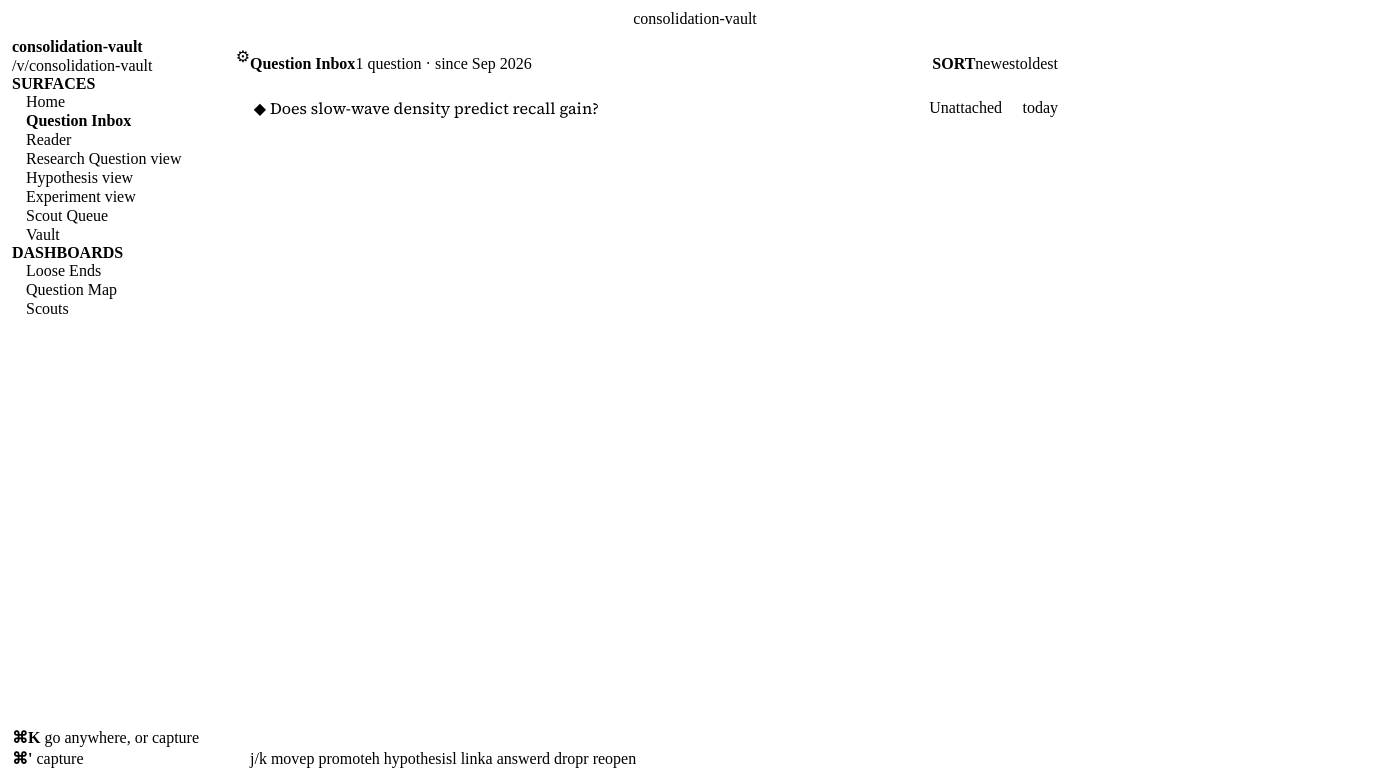
Test: drop and reopen › a refused drop shows its reason on the row
Click the option: click(434, 108) [250, 90, 1058, 126]
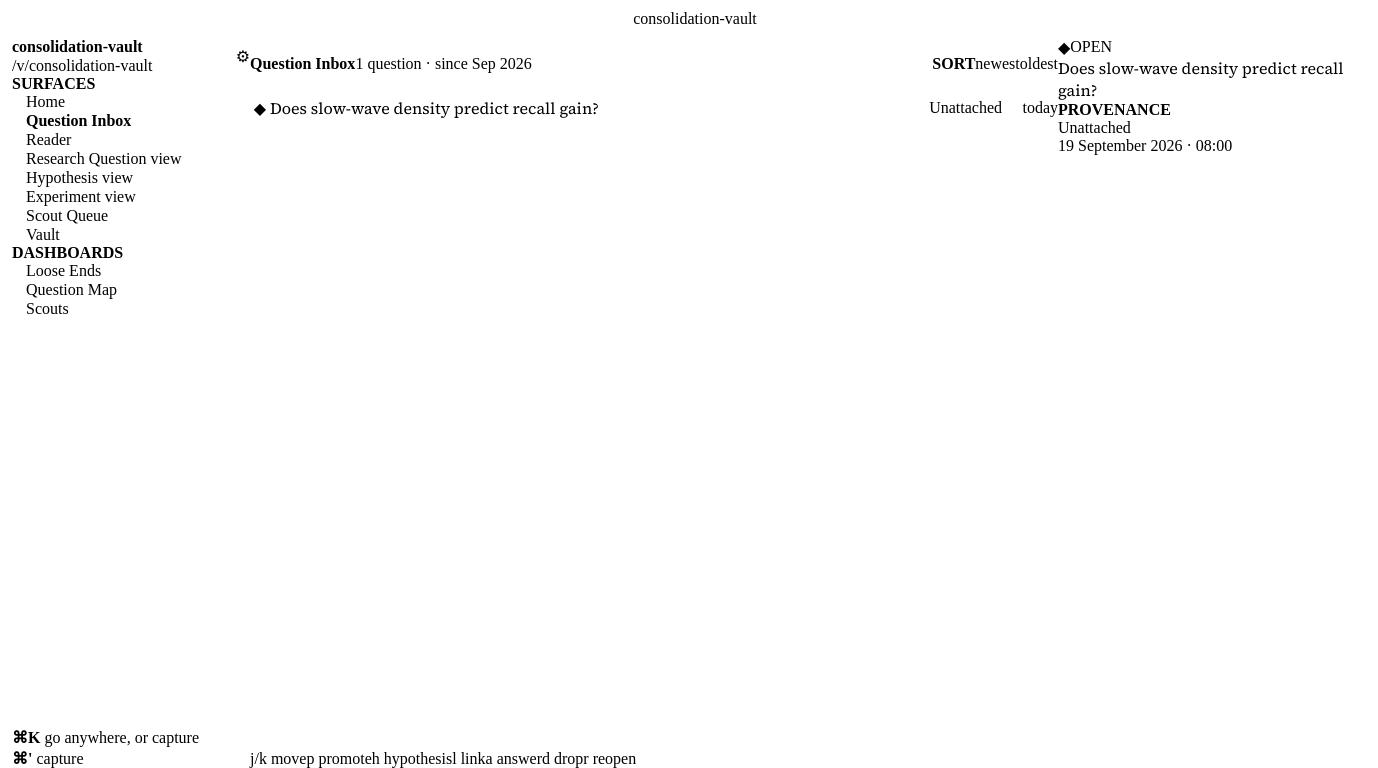
Press d in the list named "Questions", box [254, 97, 1058, 119]
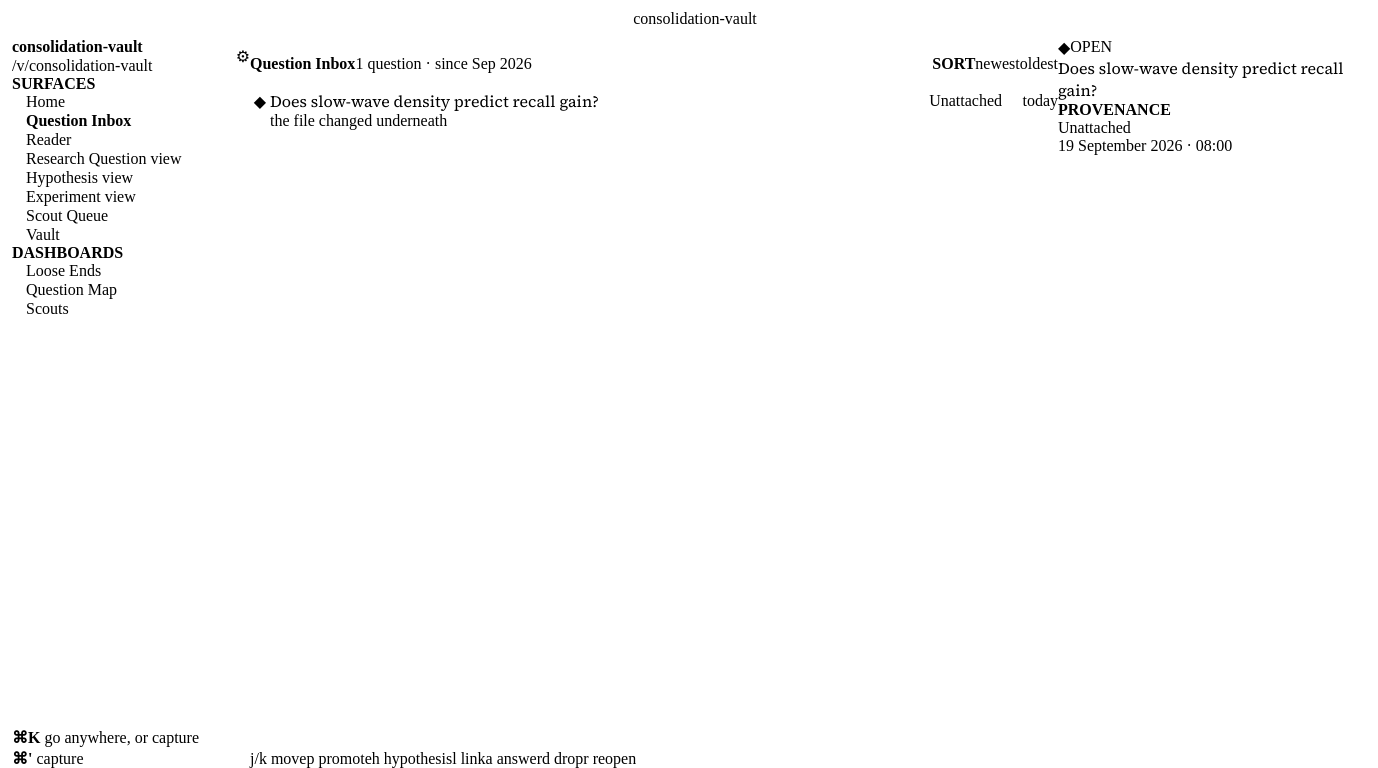
expect the message reads "the file changed underneath": met, box [270, 112, 447, 129]
